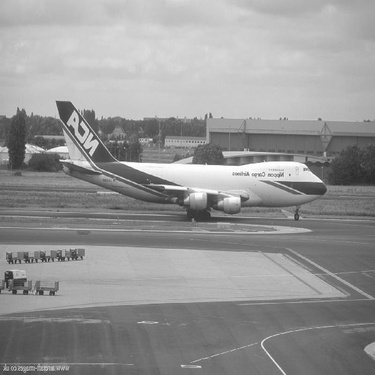airplane: (14, 71, 357, 234)
